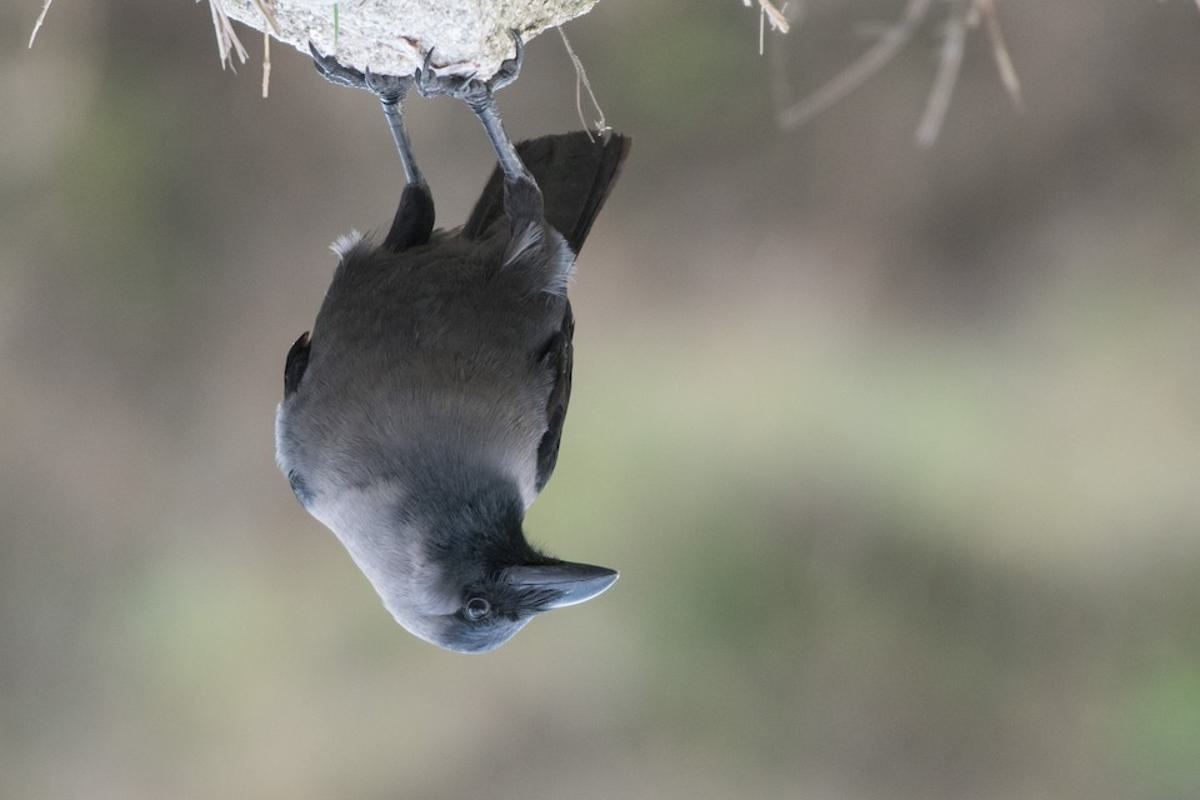crow: (286, 27, 646, 693)
